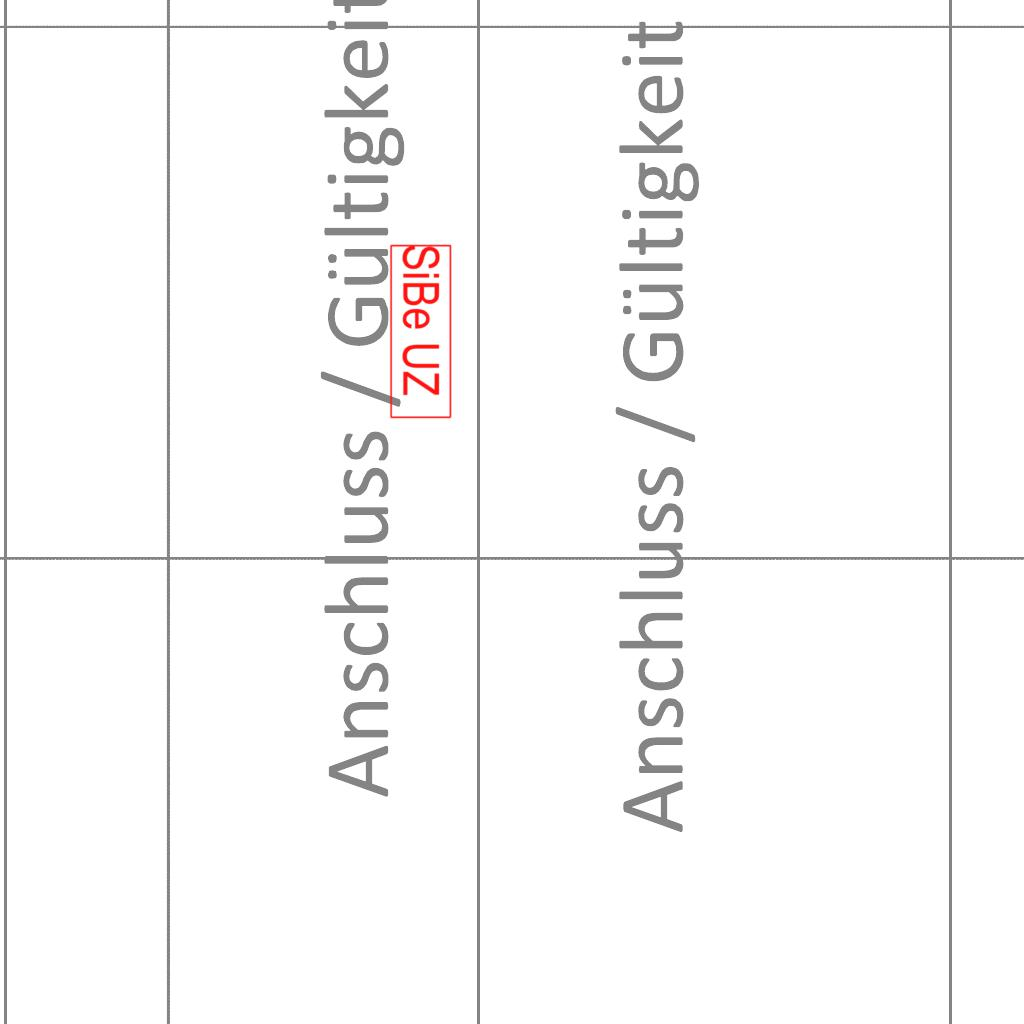Zentrale_Sicherheitsbeleuchtung: (388, 243, 453, 421)
